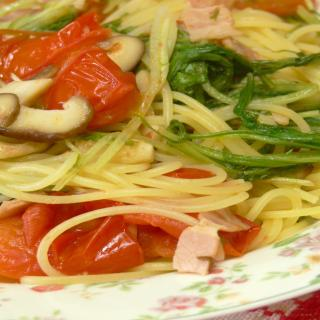tomato: (57, 52, 143, 125)
